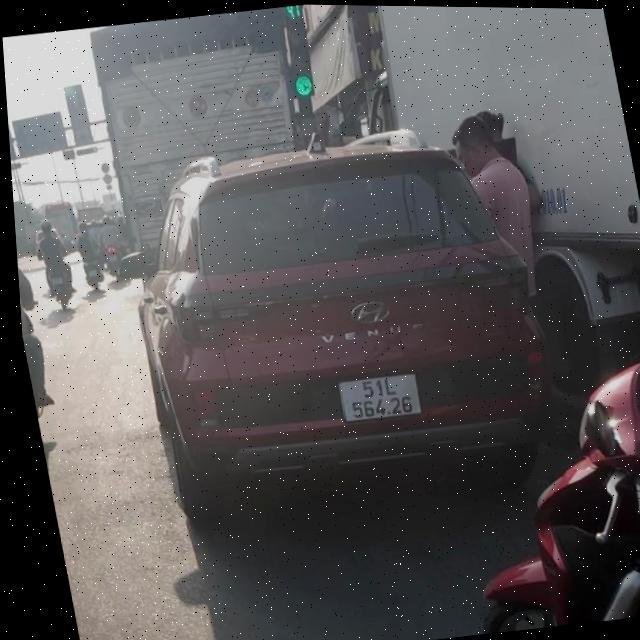car: (104, 120, 573, 537)
plate: (331, 369, 432, 430)
